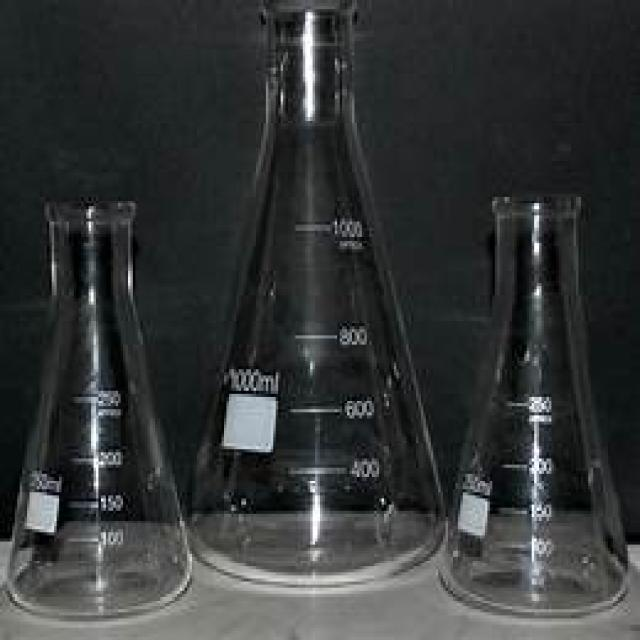Titrarion: (189, 18, 452, 590), (441, 173, 632, 612), (11, 186, 191, 612)
